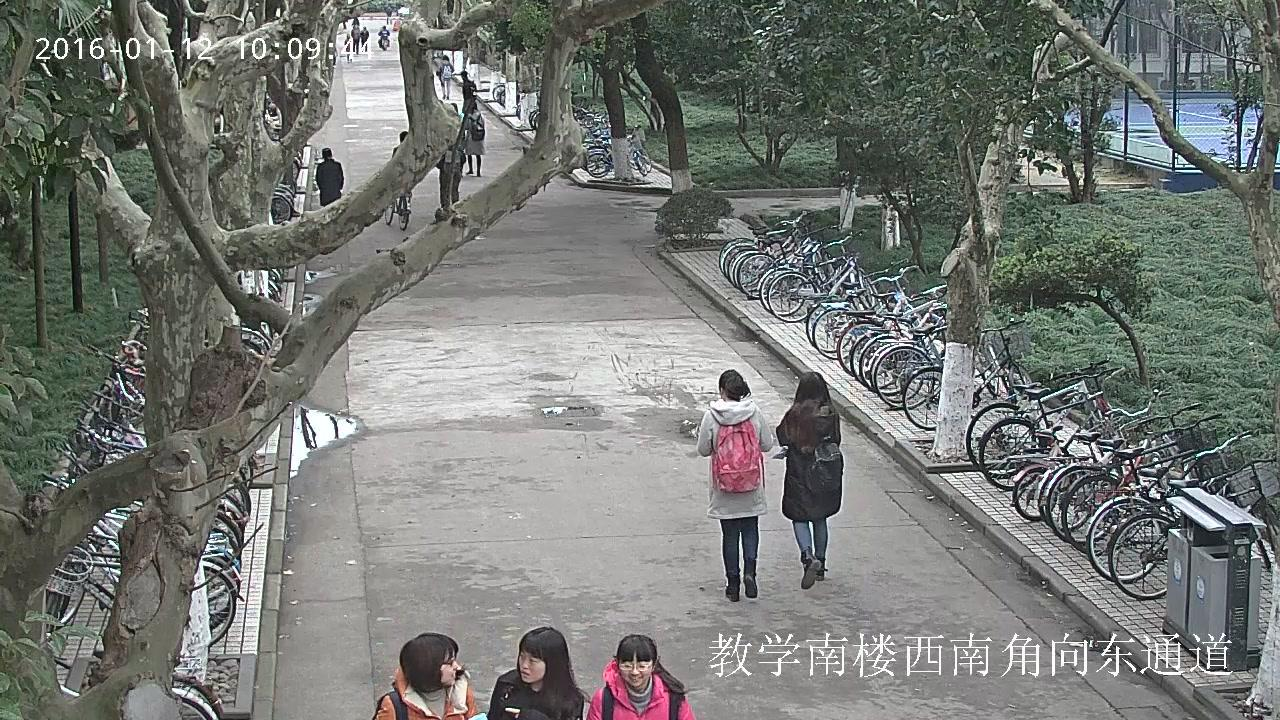person: (697, 369, 773, 602), (776, 372, 844, 589), (371, 633, 487, 720), (487, 626, 590, 718), (586, 635, 694, 720), (434, 102, 465, 209), (461, 101, 486, 176), (316, 147, 344, 206), (460, 70, 478, 114), (435, 55, 453, 99), (378, 25, 390, 51), (351, 23, 360, 54), (378, 25, 390, 47), (344, 32, 352, 63), (359, 26, 368, 53), (352, 15, 359, 24)
